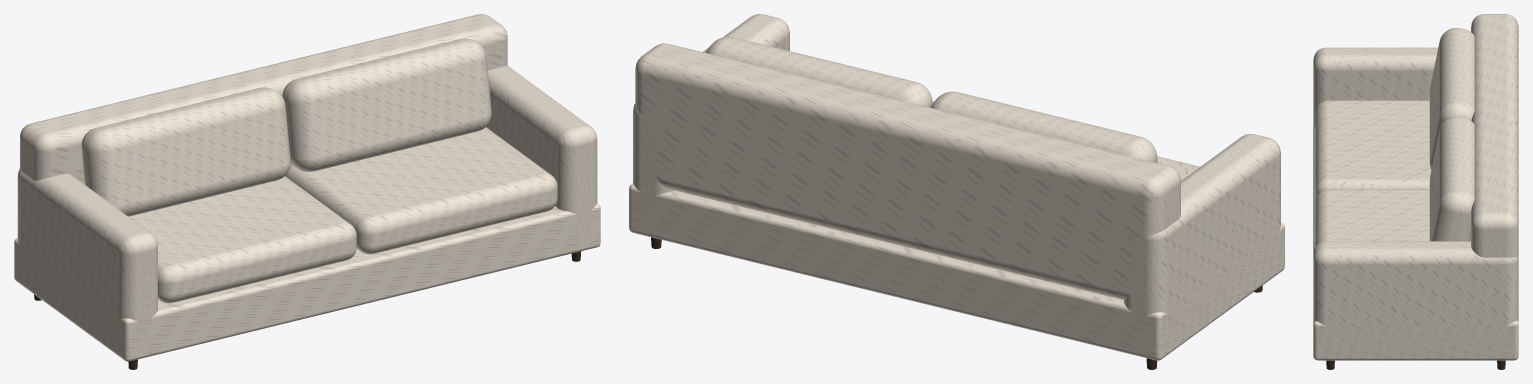
The model's file is sofa-modern-cream.glb.
3 views of the same model, side by side, from view 1: azimuth 30°, elevation 25°; view 2: azimuth 150°, elevation 25°; view 3: azimuth 270°, elevation 25° (orthographic). The views are drawn at different scales.
Parts seen in each view (by area): view 1: sofa-modern-cream; view 2: sofa-modern-cream; view 3: sofa-modern-cream.
Boxes of the visible parts, x1,y1,x2,y2 form: sofa-modern-cream: (14,14,600,369); sofa-modern-cream: (629,14,1284,369); sofa-modern-cream: (1313,14,1518,369).
Size of the model in its own units: 2.3 by 0.8196 by 0.9499.
2 materials, 1 textured.
